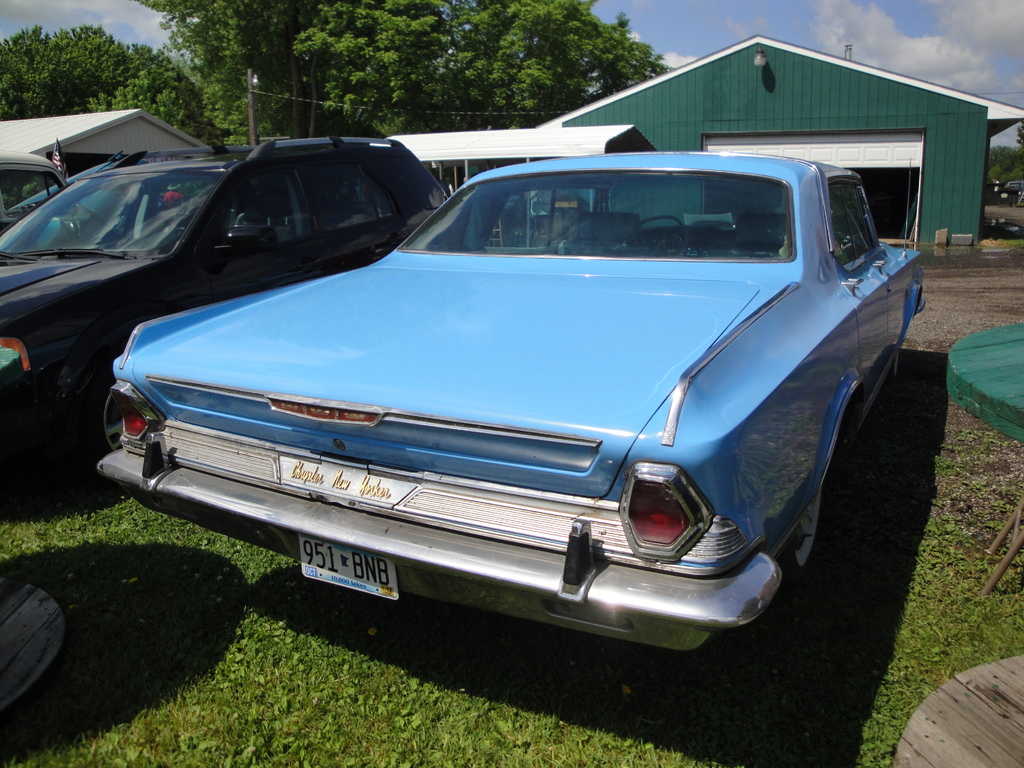Car: (106, 151, 894, 652), (0, 132, 466, 483), (0, 142, 149, 253)
